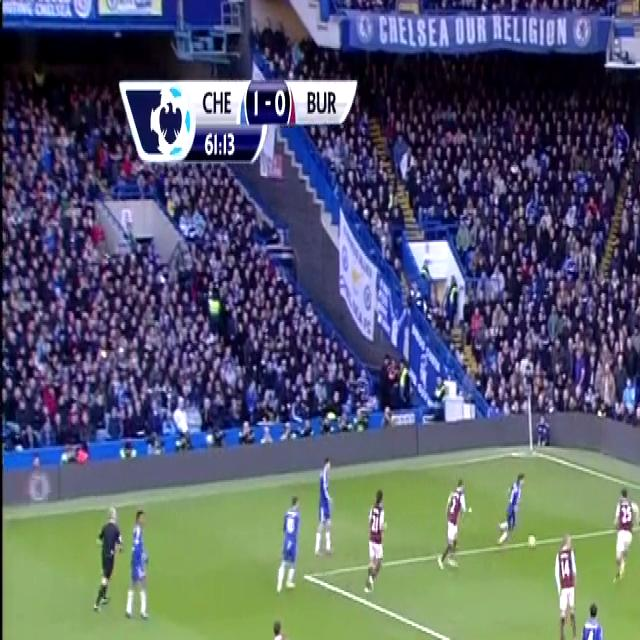referee: (86, 499, 122, 623)
soccer-player: (123, 503, 157, 628), (435, 472, 472, 578), (359, 479, 390, 598), (549, 528, 581, 640), (610, 478, 640, 588), (274, 489, 304, 599), (314, 453, 343, 566), (493, 465, 528, 554), (573, 597, 609, 640), (263, 611, 303, 640), (634, 567, 640, 640)
